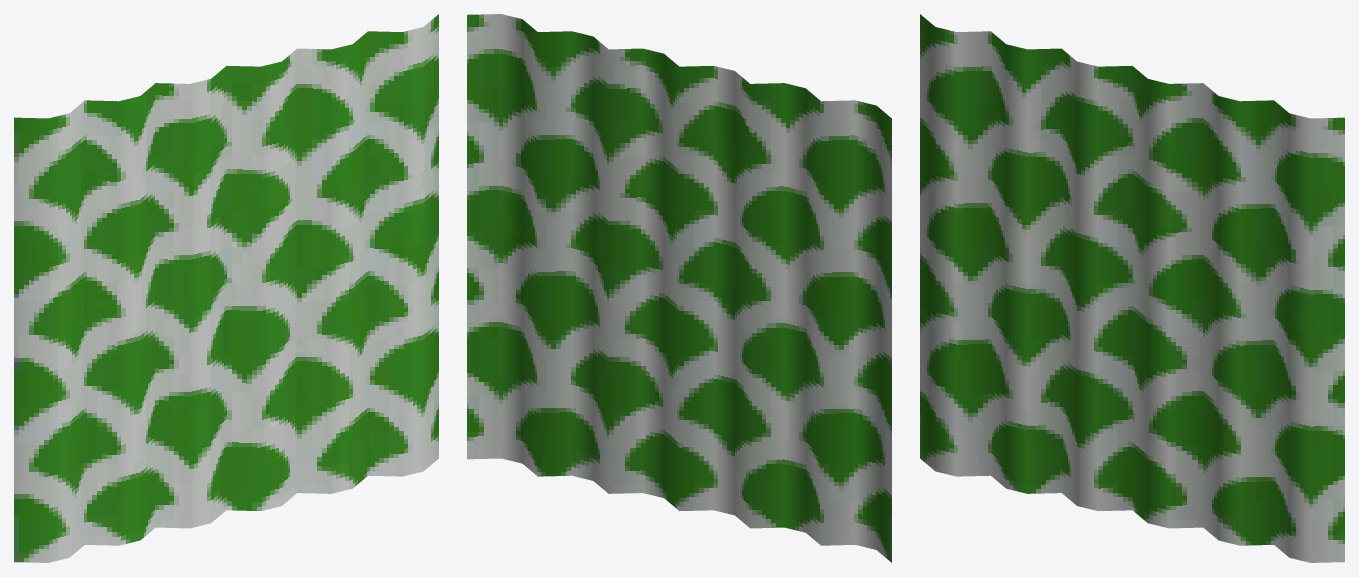
File: item_metal_plate_xmas.glb
3 views of the same model, side by side, from view 1: azimuth 30°, elevation 25°; view 2: azimuth 150°, elevation 25°; view 3: azimuth 330°, elevation 25° (orthographic).
Parts seen in each view (by area): view 1: MetalPlate; view 2: MetalPlate; view 3: MetalPlate.
Part boxes in pixels (<box>): MetalPlate: <box>14,14,438,562</box>; MetalPlate: <box>467,14,891,562</box>; MetalPlate: <box>920,14,1344,562</box>.
Bounding box in the file's own units: 1.38 × 1.38 × 0.053.
Materials: 1 (1 with a texture image).
